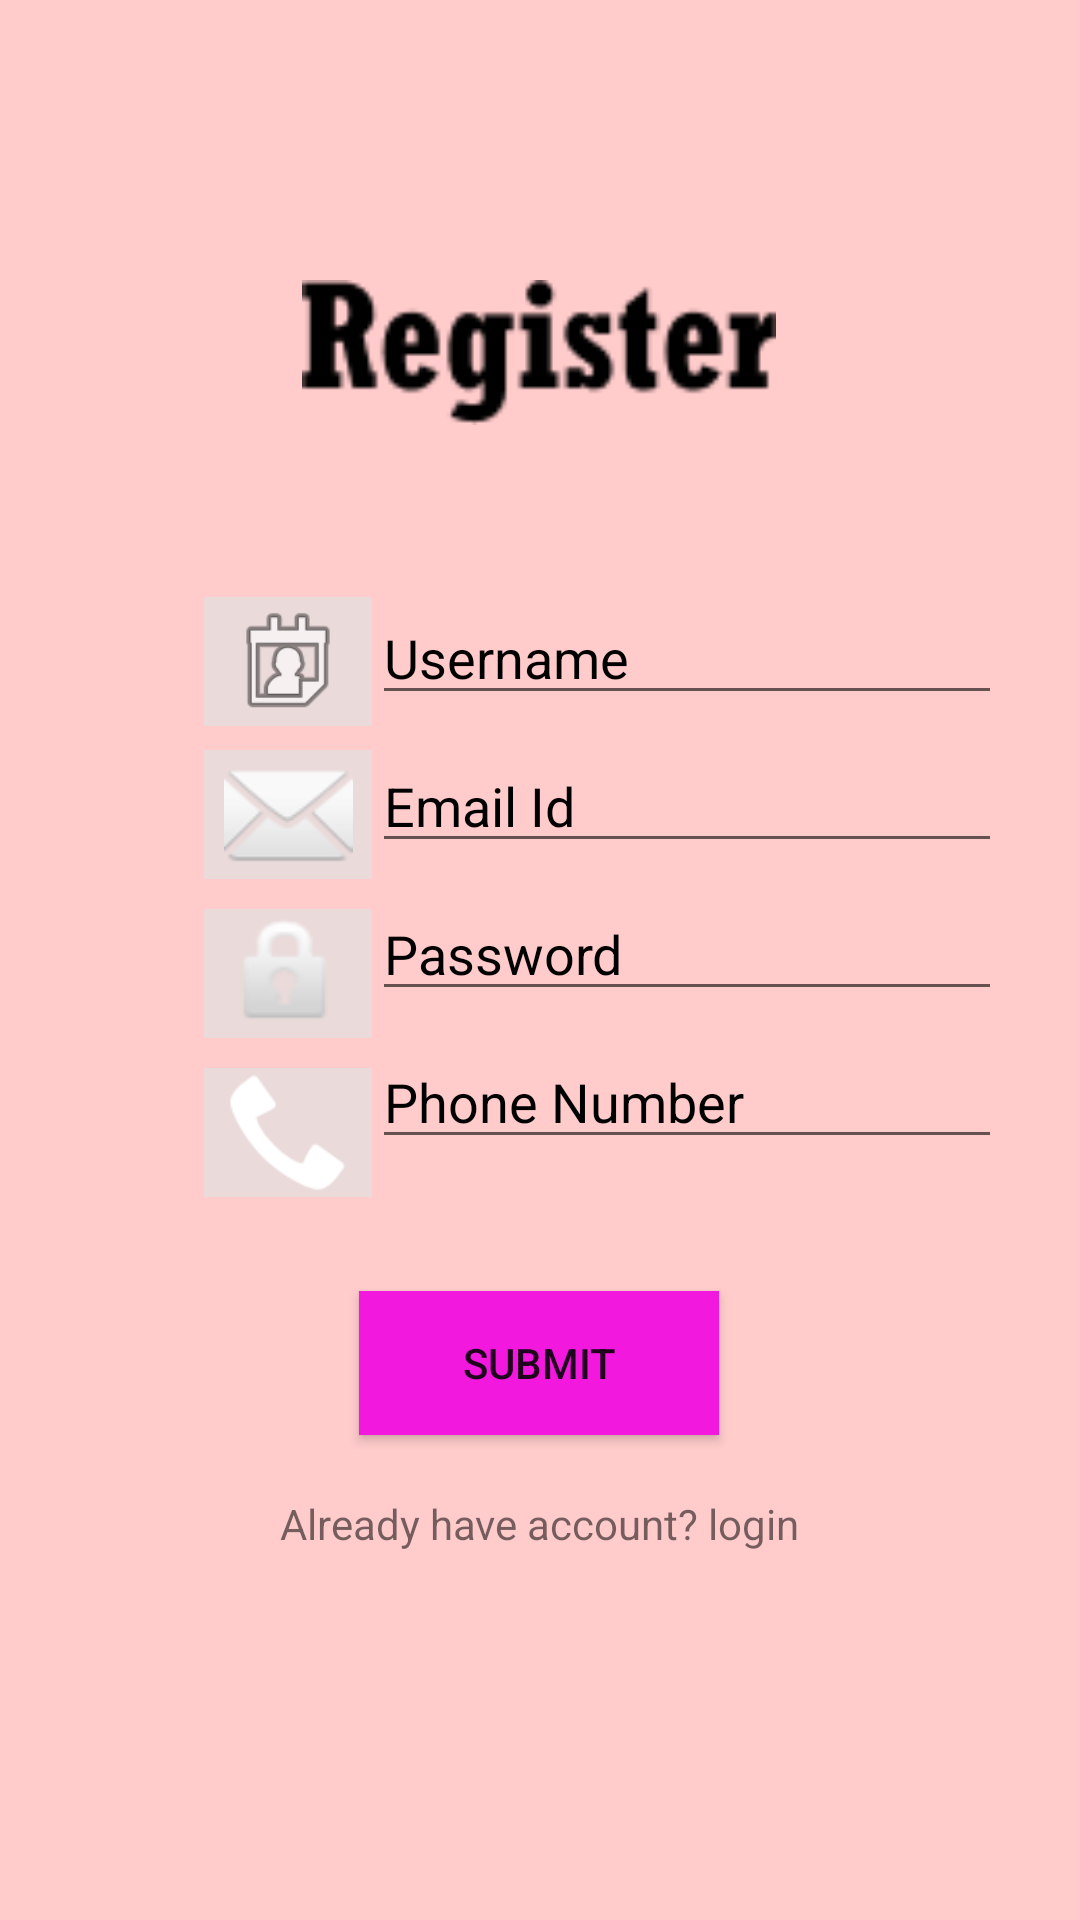

Point at icon controls on the screen. Image size 1080w x 1920h, points as [x,y].
calendar: [288,660]
lock idle: [285,970]
phone call: [288,1132]
